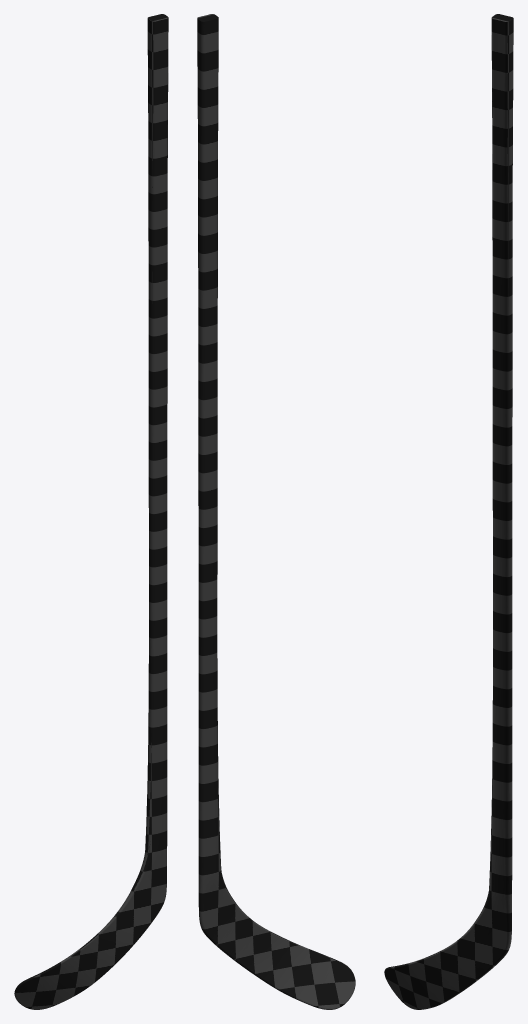
File: P50-SBO-LIE6_5.glb
3 views of the same model, side by side, from view 1: azimuth 30°, elevation 25°; view 2: azimuth 210°, elevation 25°; view 3: azimuth 330°, elevation 25° (orthographic). The views are drawn at different scales.
Parts seen in each view (by area): view 1: geometry_0; view 2: geometry_0; view 3: geometry_0.
Part boxes in pixels (box(x1,y1,x2,y2)): geometry_0: box(14, 14, 168, 1009); geometry_0: box(197, 14, 355, 1009); geometry_0: box(384, 14, 513, 1009).
Bounding box in the file's own units: 240 × 1650 × 66.66.
Materials: 1 (1 with a texture image).
